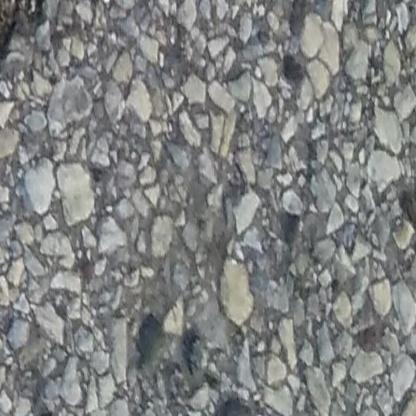Cracks: (0, 0, 50, 78)
